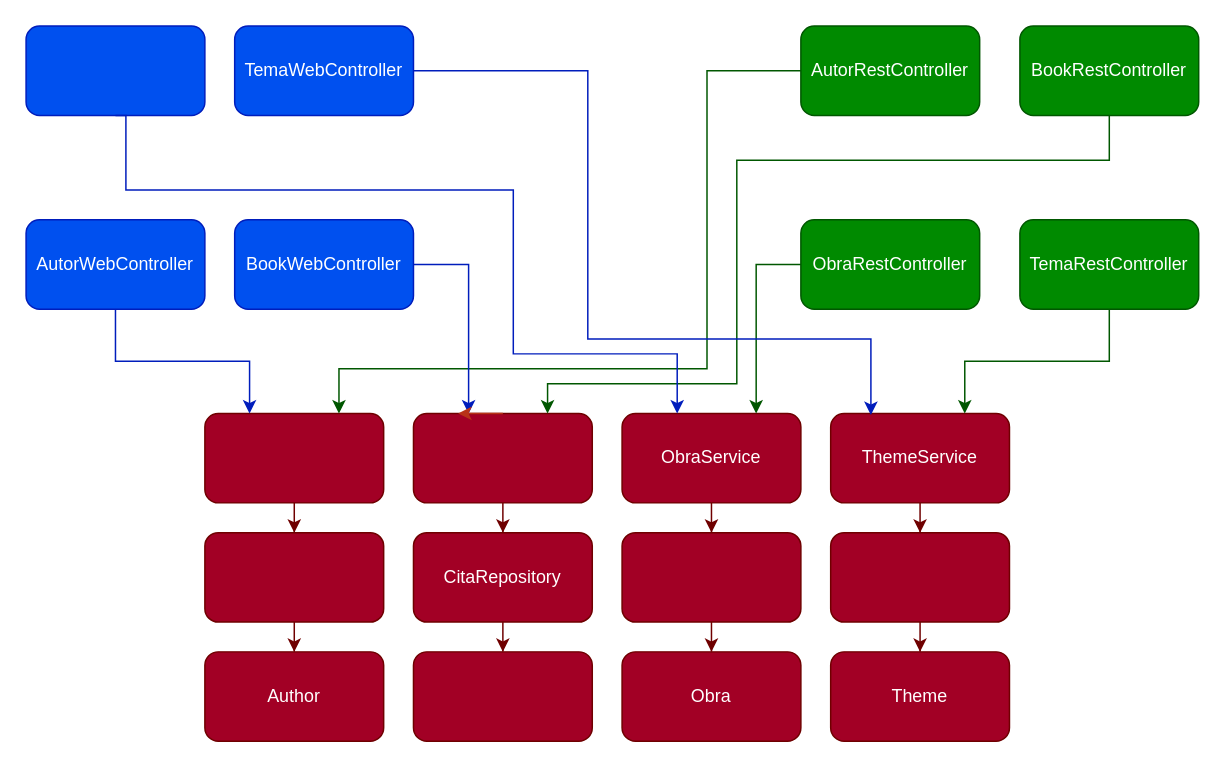
Some shapes in this 1225 by 767 pixel diagram are drawn without their labels. Here are the shapes that lost their labels. From the top down, the centre of each, then its label:
At pixel 115 70: "ObraController".
At pixel 293 457: "AuthorService".
At pixel 502 457: "CitaService".
At pixel 293 576: "AuthorRepository".
At pixel 711 576: "ObraRepository".
At pixel 919 576: "ThemeRepository".
At pixel 502 695: "Cita".
